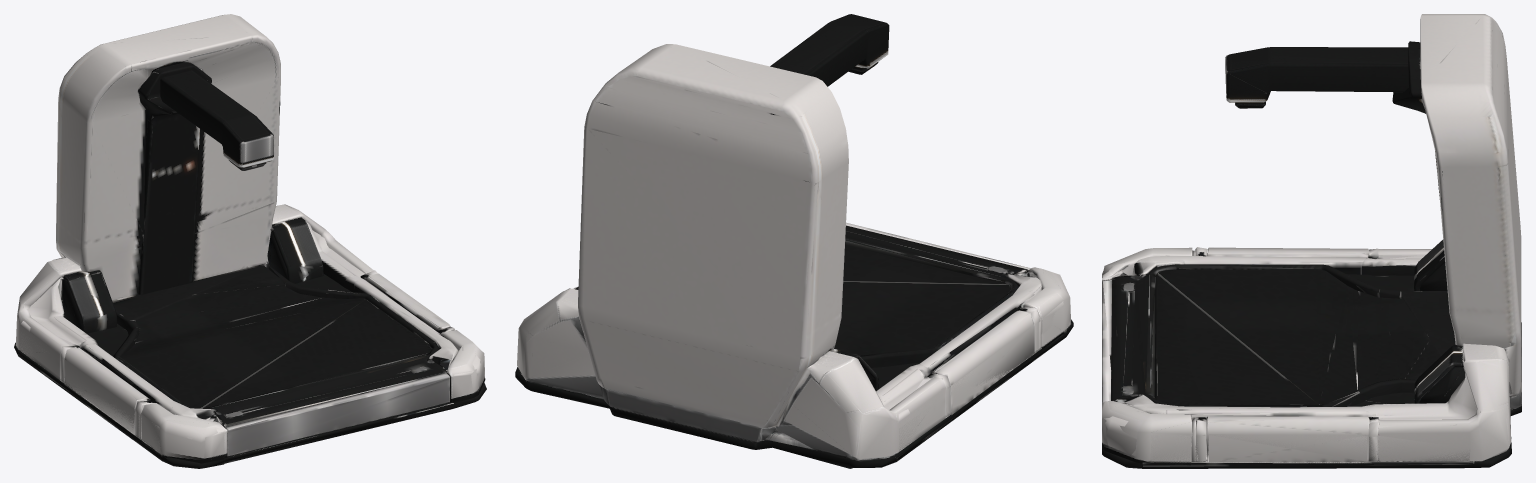
Rendered from meshy-t2.glb.
3 views of the same model, side by side, from view 1: azimuth 30°, elevation 25°; view 2: azimuth 150°, elevation 25°; view 3: azimuth 270°, elevation 25° (orthographic). The views are drawn at different scales.
Bounding box in the file's own units: 1 × 0.8623 × 1.
1 material, 1 textured.
